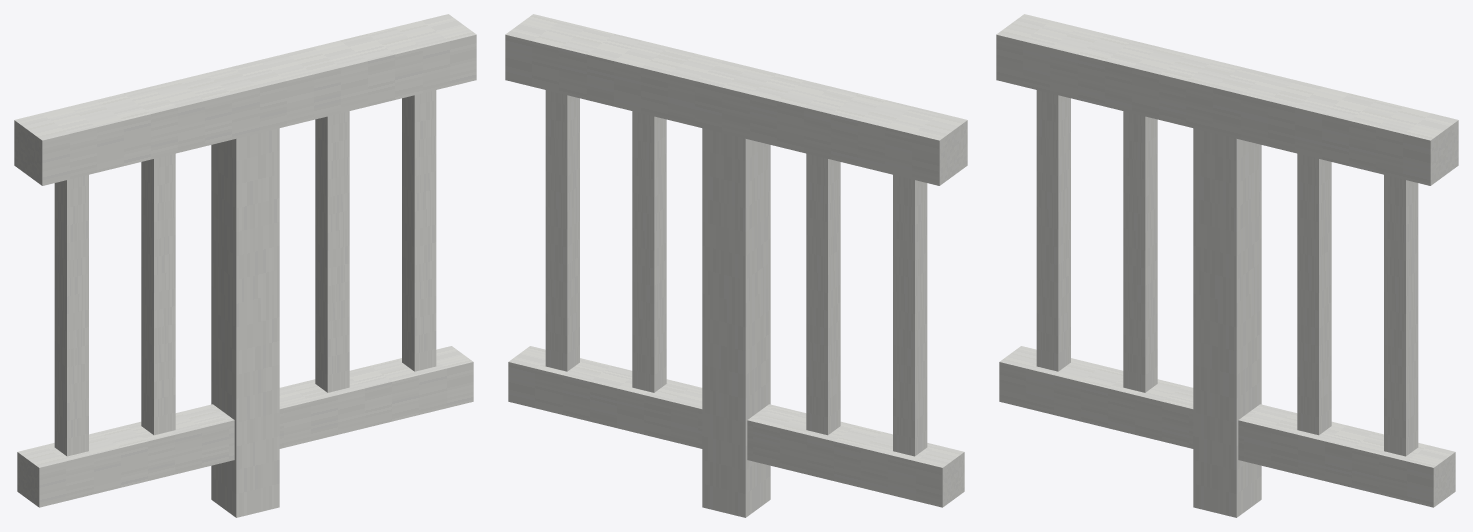
Rendered from level.obj.
The picture shows the model from 3 angles, left to right: view 1: azimuth 30°, elevation 25°; view 2: azimuth 150°, elevation 25°; view 3: azimuth 330°, elevation 25°; orthographic projection.
Visible parts, largest first — view 1: railing_picket_white_level; view 2: railing_picket_white_level; view 3: railing_picket_white_level.
Part boxes in pixels (<box>): railing_picket_white_level: <box>14,14,476,517</box>; railing_picket_white_level: <box>505,14,967,517</box>; railing_picket_white_level: <box>996,14,1458,517</box>.
Size of the model in its own units: 1 by 0.9375 by 0.1125.
